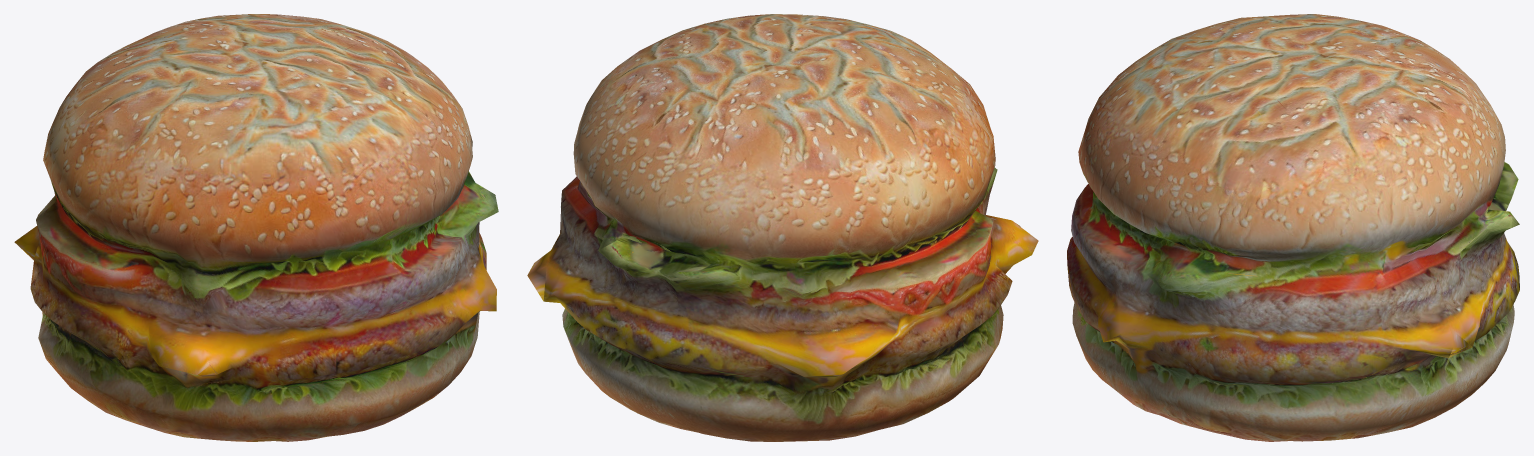
File: burger-cift.glb
3 renders of one model, left to right at view 1: azimuth 30°, elevation 25°; view 2: azimuth 150°, elevation 25°; view 3: azimuth 270°, elevation 25°, orthographic.
Parts seen in each view (by area): view 1: Hamburger_Hamburger_0; view 2: Hamburger_Hamburger_0; view 3: Hamburger_Hamburger_0.
Part boxes in pixels (box(x1,y1,x2,y2)): Hamburger_Hamburger_0: box(14, 14, 498, 441); Hamburger_Hamburger_0: box(527, 14, 1038, 441); Hamburger_Hamburger_0: box(1067, 14, 1519, 441).
Bounding box in the file's own units: 0.1206 × 0.094 × 0.1185.
1 material, 1 textured.
